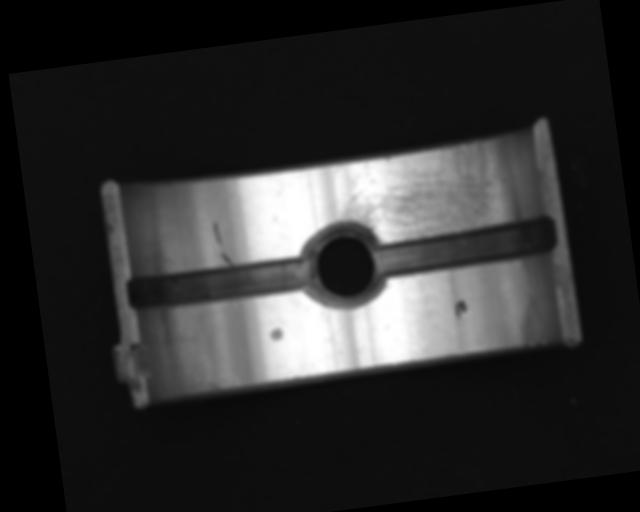blot: (453, 298, 467, 319)
bruise: (269, 326, 284, 343)
gap: (123, 252, 315, 315), (371, 216, 560, 279)
hole: (298, 216, 389, 313)
nick: (212, 220, 233, 270)
scratch: (329, 137, 508, 251)
